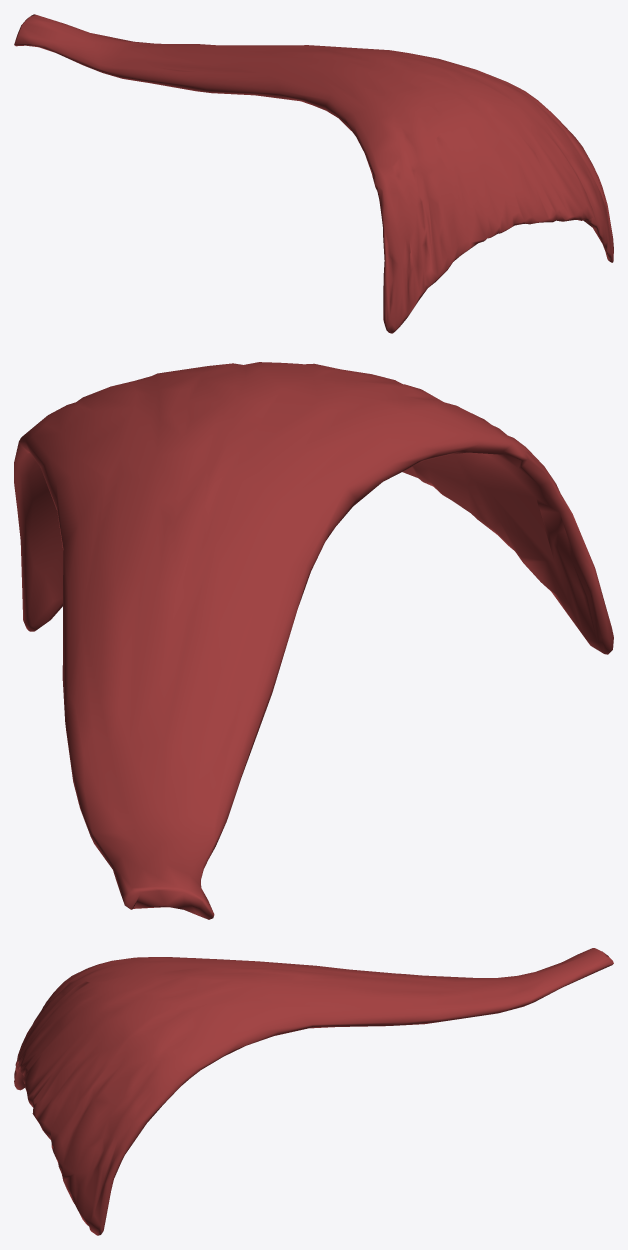
Rendered from levator-palpebrae-superioris-l.glb.
3 renders of one model, top to bottom at view 1: azimuth 30°, elevation 25°; view 2: azimuth 150°, elevation 25°; view 3: azimuth 270°, elevation 25°, orthographic. The views are drawn at different scales.
Visible parts, largest first — view 1: Levator palpebrae superioris.l; view 2: Levator palpebrae superioris.l; view 3: Levator palpebrae superioris.l.
Part boxes in pixels (box(x1,y1,x2,y2)): Levator palpebrae superioris.l: box(14, 14, 613, 333); Levator palpebrae superioris.l: box(14, 362, 613, 919); Levator palpebrae superioris.l: box(14, 948, 613, 1235).
Size of the model in its own units: 0.0301 by 0.0158 by 0.046.
